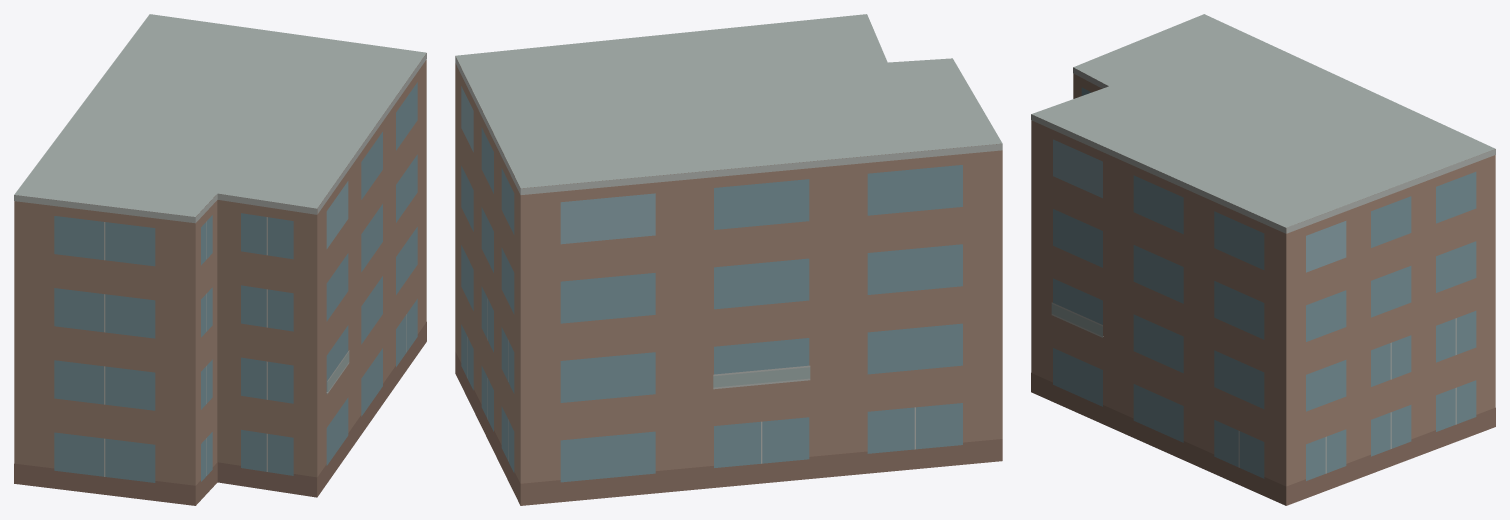
Rendered from survey-upis-32832700.glb.
3 views of the same model, side by side, from view 1: azimuth 30°, elevation 25°; view 2: azimuth 150°, elevation 25°; view 3: azimuth 270°, elevation 25° (orthographic). The views are drawn at different scales.
Visible parts, largest first — view 1: survey-upis-32832700.tmp; view 2: survey-upis-32832700.tmp; view 3: survey-upis-32832700.tmp.
Boxes of the visible parts, bbox=[...] form: survey-upis-32832700.tmp: bbox=[14, 14, 426, 505]; survey-upis-32832700.tmp: bbox=[455, 14, 1002, 505]; survey-upis-32832700.tmp: bbox=[1031, 14, 1495, 505].
Size of the model in its own units: 18.65 by 11.3 by 17.12.
